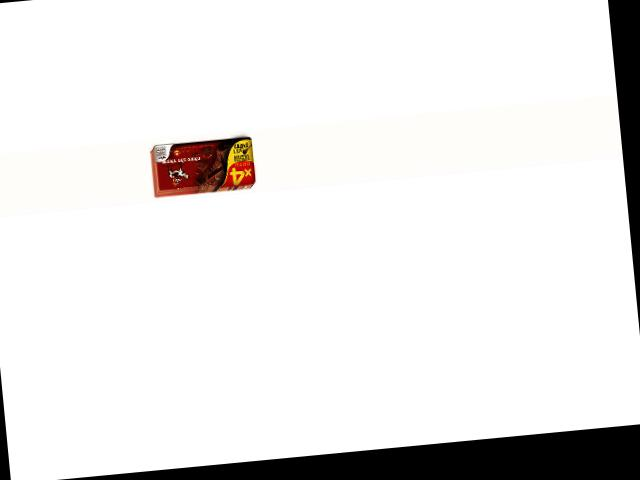chocolate: (151, 133, 257, 197)
